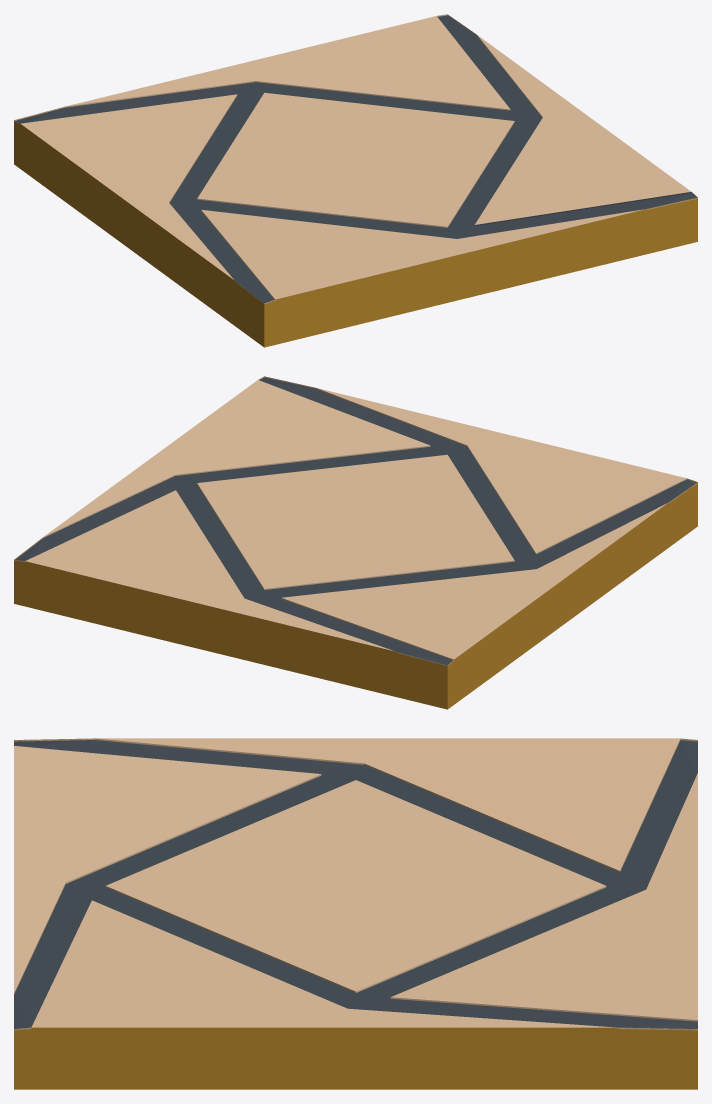
File: FloorPattern-v1.fbx
3 renders of one model, top to bottom at view 1: azimuth 30°, elevation 25°; view 2: azimuth 150°, elevation 25°; view 3: azimuth 270°, elevation 25°, orthographic. The views are drawn at different scales.
Parts seen in each view (by area): view 1: Floor pattern; view 2: Floor pattern; view 3: Floor pattern.
Part boxes in pixels (x1,y1,x2,y2): Floor pattern: [14, 14, 697, 347]; Floor pattern: [14, 376, 697, 709]; Floor pattern: [14, 738, 697, 1089].
Bounding box in the file's own units: 200 × 20 × 200.
